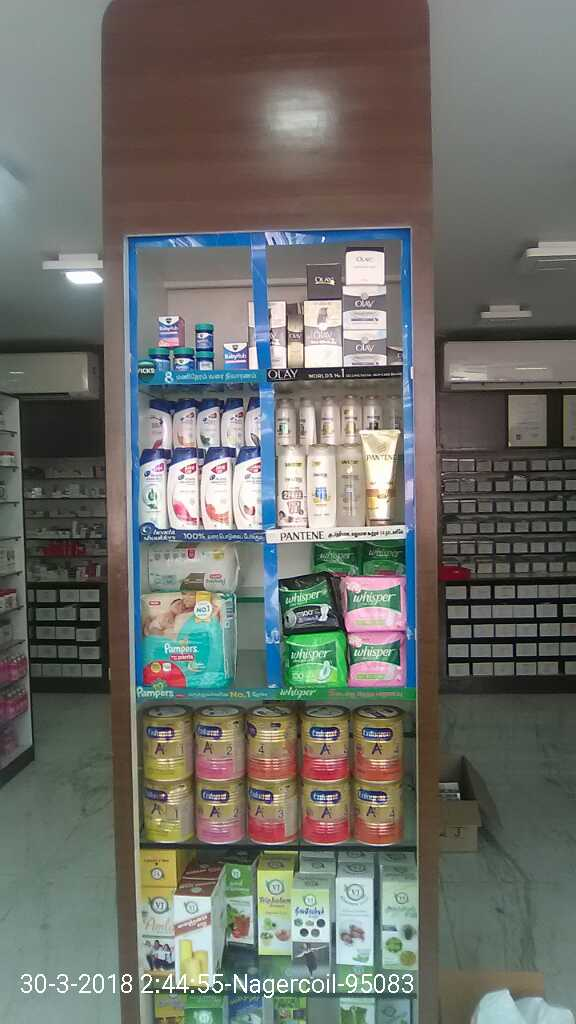vicks: (147, 312, 250, 372)
